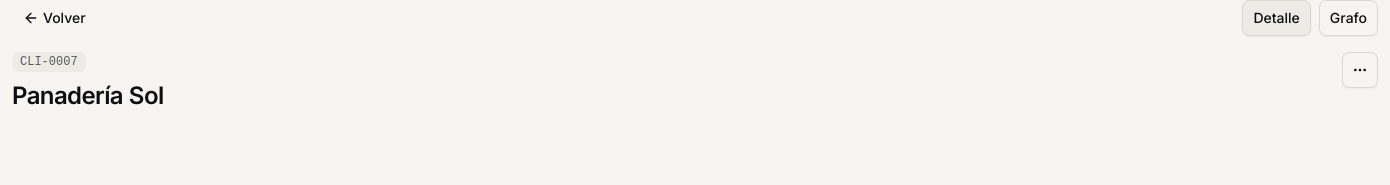
Test case: DetailHeader › opens the More menu from its icon button and lists the menu items
The image size is (1390, 185).
Step 1. Click the button named "Más acciones" → click(1360, 70), box [1342,52,1378,88]
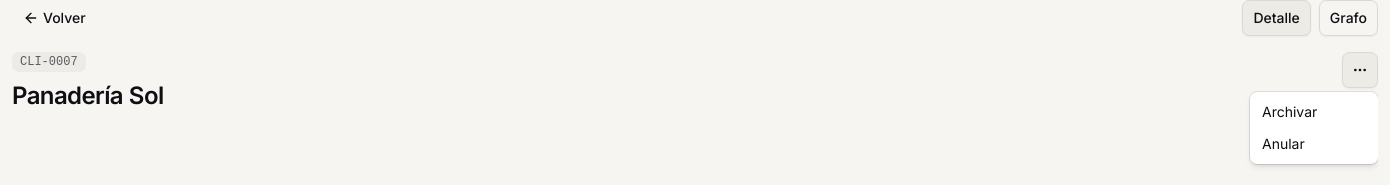
Expected: the menu item "Archivar" is shown, [1262,103,1317,120]
Expected: the menu item "Anular" is shown, [1262,135,1305,152]
